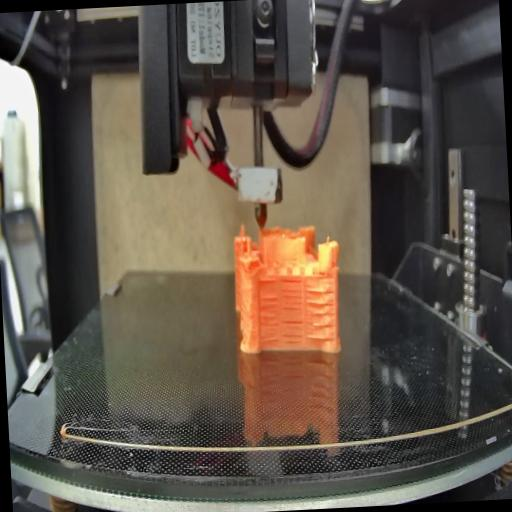cracks: (304, 286, 336, 343), (280, 290, 306, 342), (257, 294, 281, 346), (260, 275, 278, 288), (282, 275, 302, 286)
